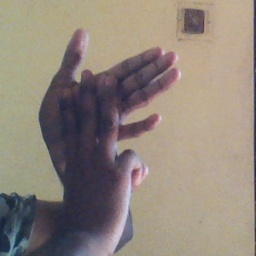M: (34, 27, 183, 196)
